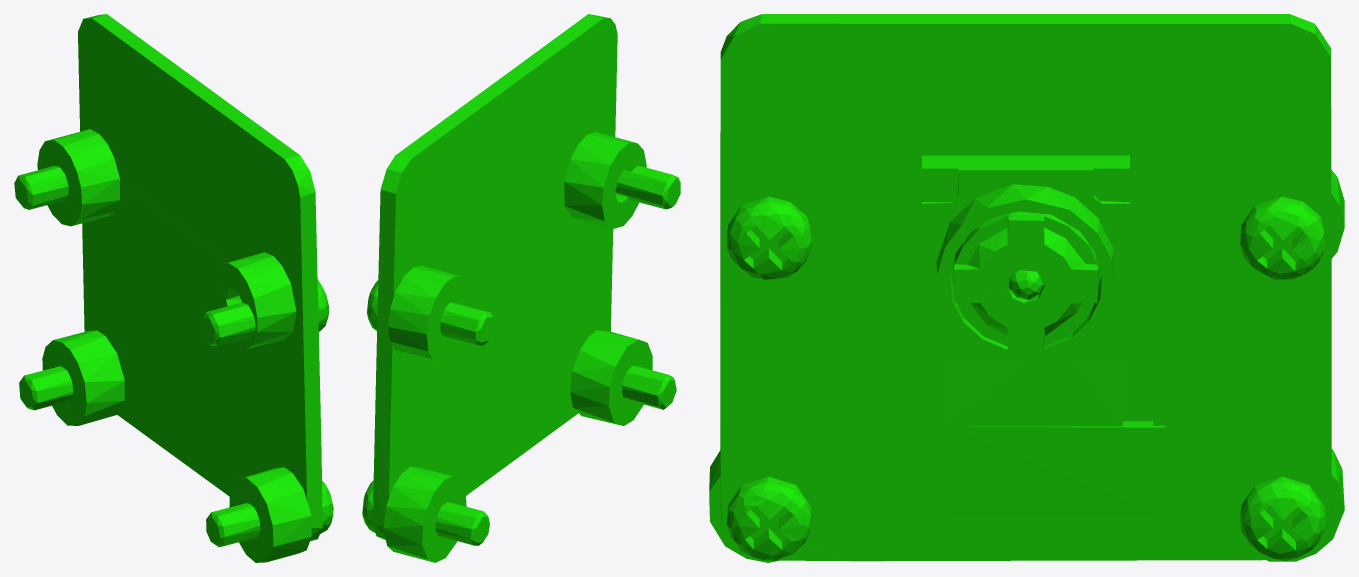
File: camera.dae
The picture shows the model from 3 angles, left to right: view 1: azimuth 30°, elevation 25°; view 2: azimuth 150°, elevation 25°; view 3: azimuth 270°, elevation 25°; orthographic projection. The views are drawn at different scales.
Parts seen in each view (by area): view 1: node.001; view 2: node.001; view 3: node.001.
Part boxes in pixels (bbox=[...]): node.001: bbox=[14, 14, 333, 562]; node.001: bbox=[362, 14, 680, 562]; node.001: bbox=[709, 14, 1344, 562].
Size of the model in its own units: 0.0115 by 0.026 by 0.0246.
